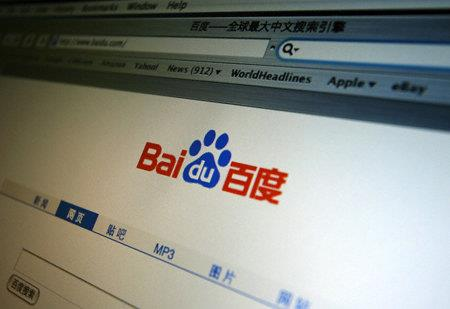baidu: (126, 125, 293, 209)
